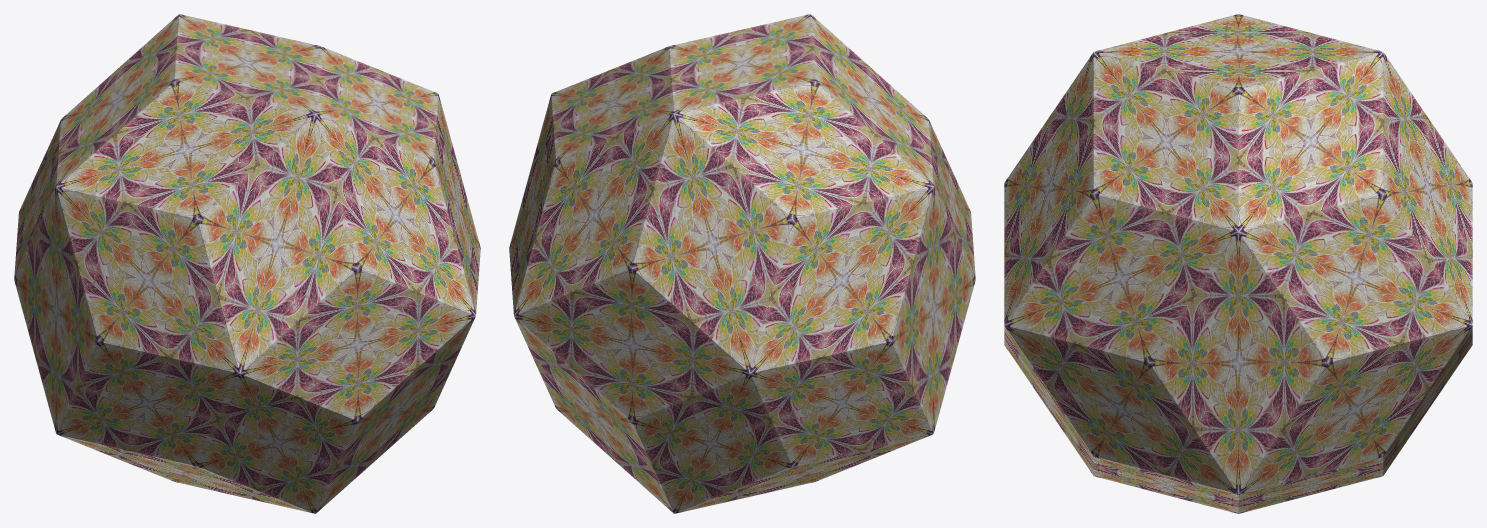
Rendered from RhombicTriacontahedron4.obj.
3 renders of one model, left to right at view 1: azimuth 30°, elevation 25°; view 2: azimuth 150°, elevation 25°; view 3: azimuth 270°, elevation 25°, orthographic. The views are drawn at different scales.
Bounding box in the file's own units: 2.93 × 2.93 × 2.93.
Materials: 1 (1 with a texture image).
